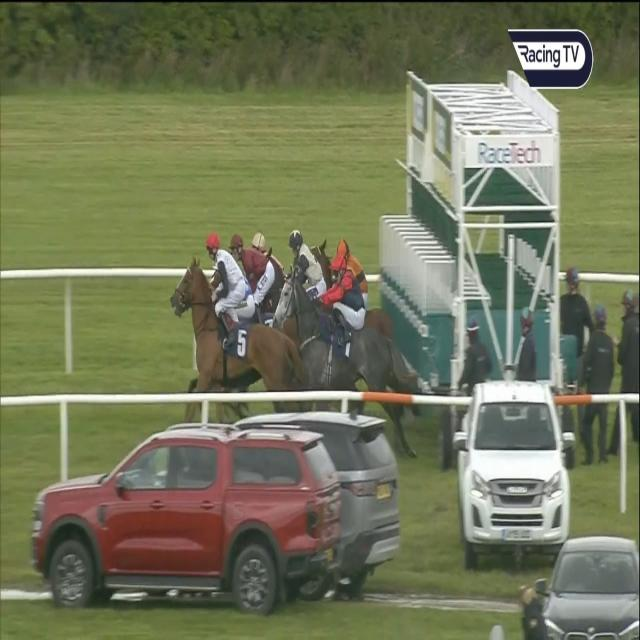horses-racing: (162, 230, 304, 417), (270, 255, 416, 394), (331, 235, 394, 329), (222, 234, 282, 323), (284, 227, 329, 302), (248, 228, 290, 308)
